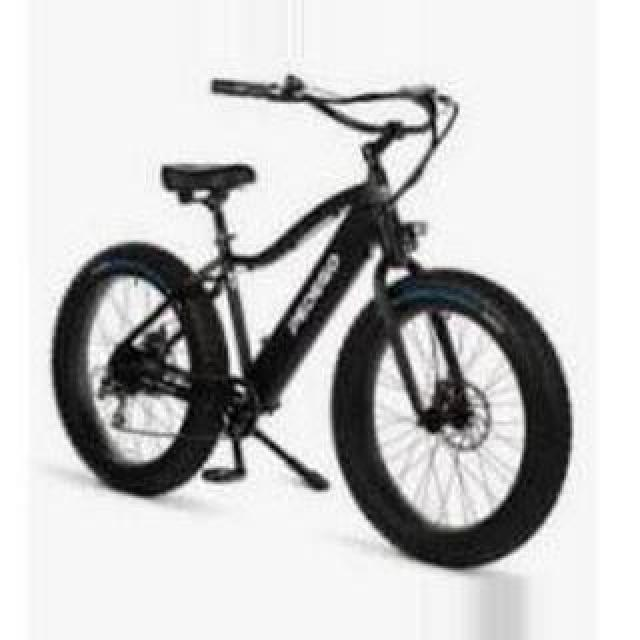Person: (50, 74, 574, 568)
